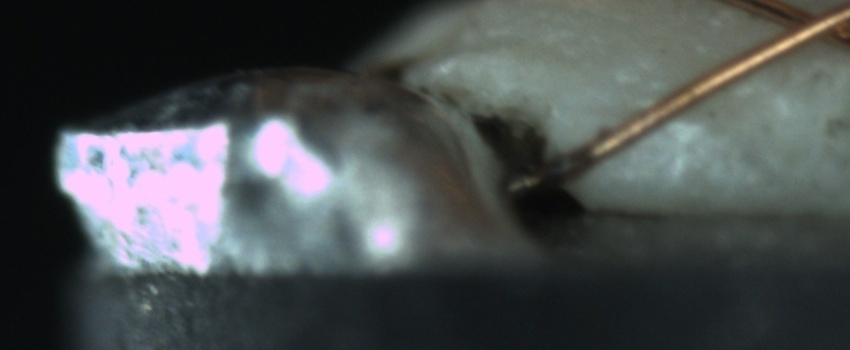CL: (759, 0, 850, 55)
